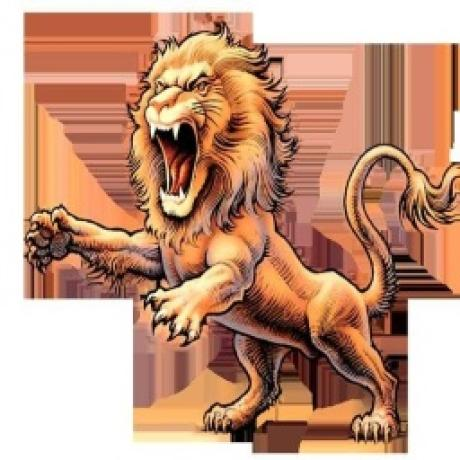Lion: (25, 17, 460, 448)
